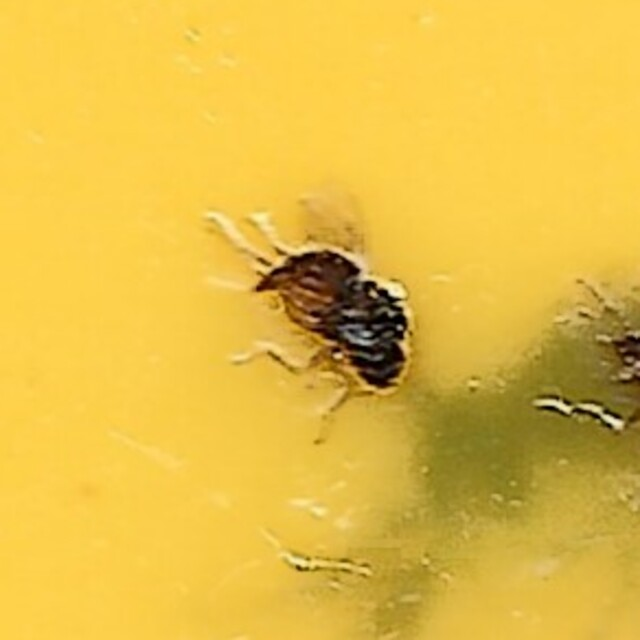Brachycera: (219, 215, 421, 425)
